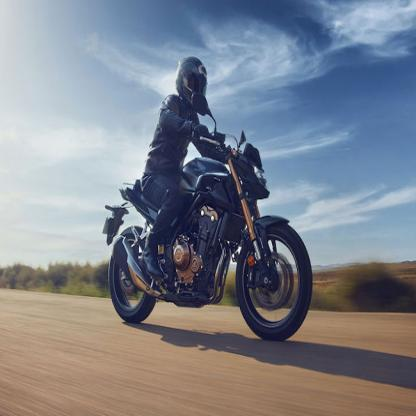helmet: (175, 56, 208, 110)
